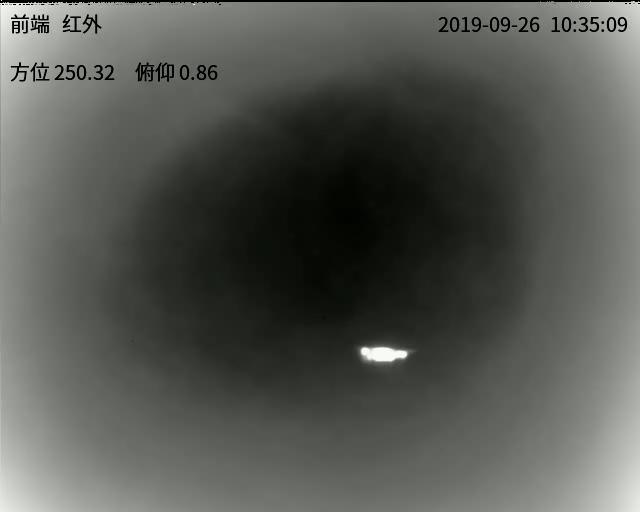uav: (356, 345, 412, 365)
